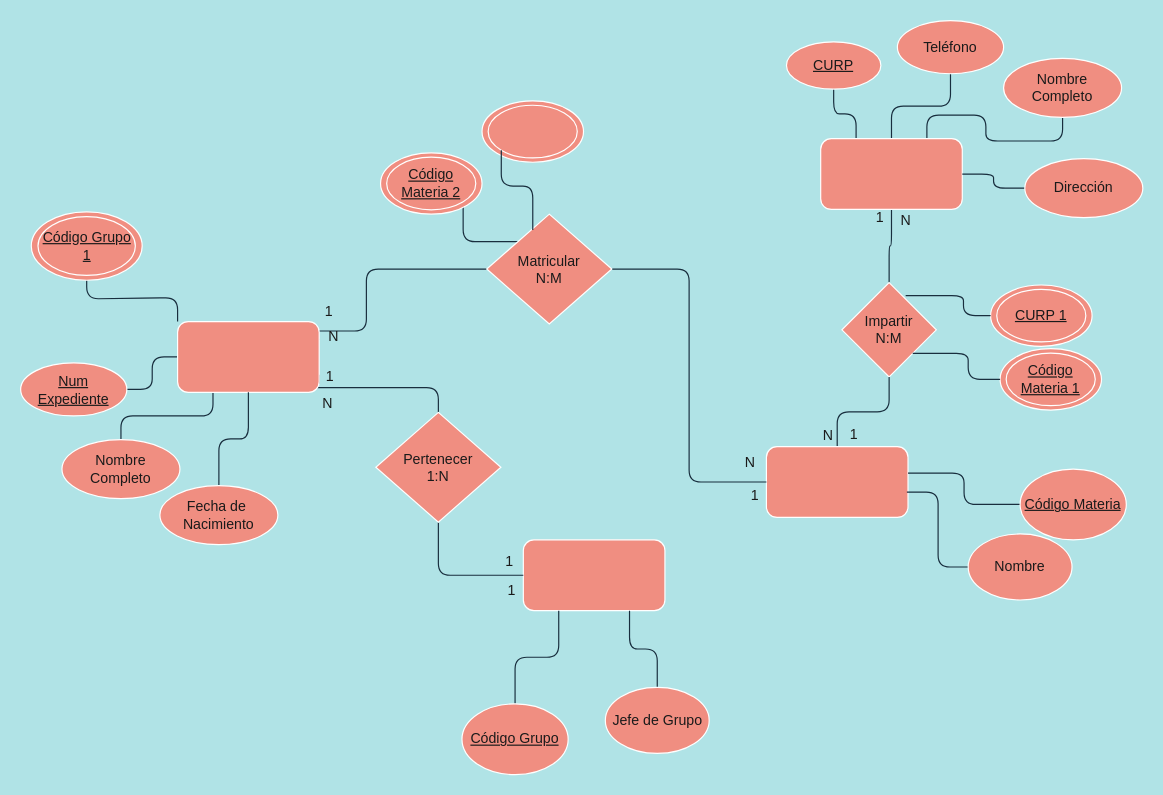
Image size: 1163x795. Some labels were removed from this diagram. The centre of each missing label's shape, as x and y in pixels:
Alumnos: point 247,356
Grupo: point 593,575
Materias: point 836,481
Num Expediente 1: point 532,131
Profesores: point 891,173
